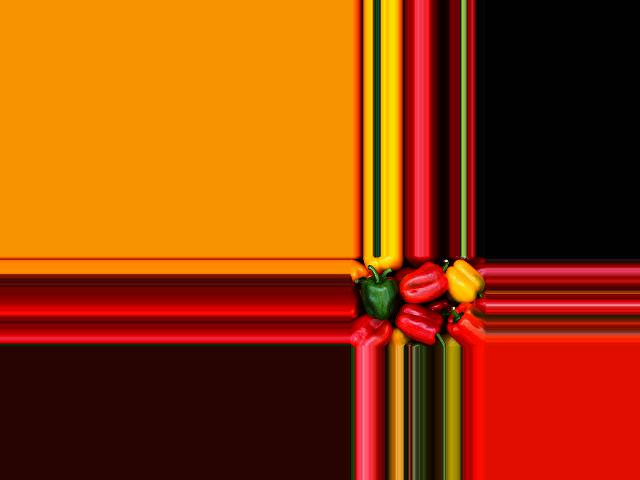bell_pepper: (442, 257, 484, 306)
